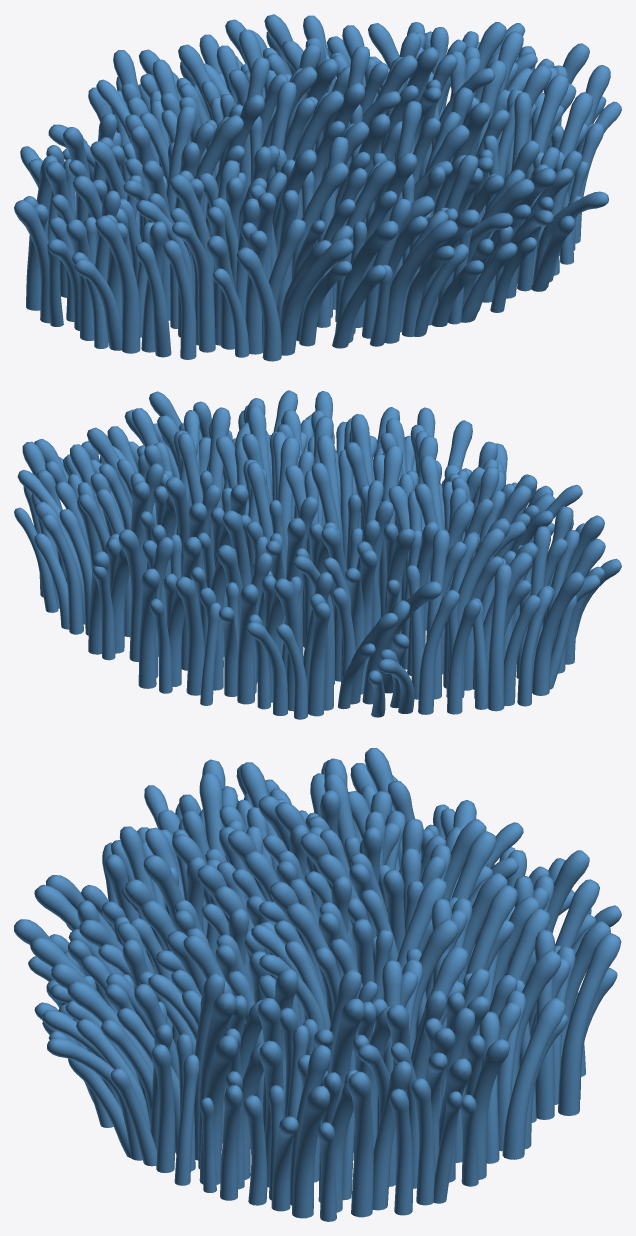
Rendered from haicao.fbx.
3 renders of one model, top to bottom at view 1: azimuth 30°, elevation 25°; view 2: azimuth 150°, elevation 25°; view 3: azimuth 270°, elevation 25°, orthographic. The views are drawn at different scales.
Visible parts, largest first — view 1: haicao_2:default011; view 2: haicao_2:default011; view 3: haicao_2:default011.
Boxes of the visible parts, x1,y1,x2,y2 form: haicao_2:default011: [14, 14, 621, 361]; haicao_2:default011: [14, 390, 621, 719]; haicao_2:default011: [14, 748, 621, 1221].
Bounding box in the file's own units: 123 × 40.59 × 95.31.
